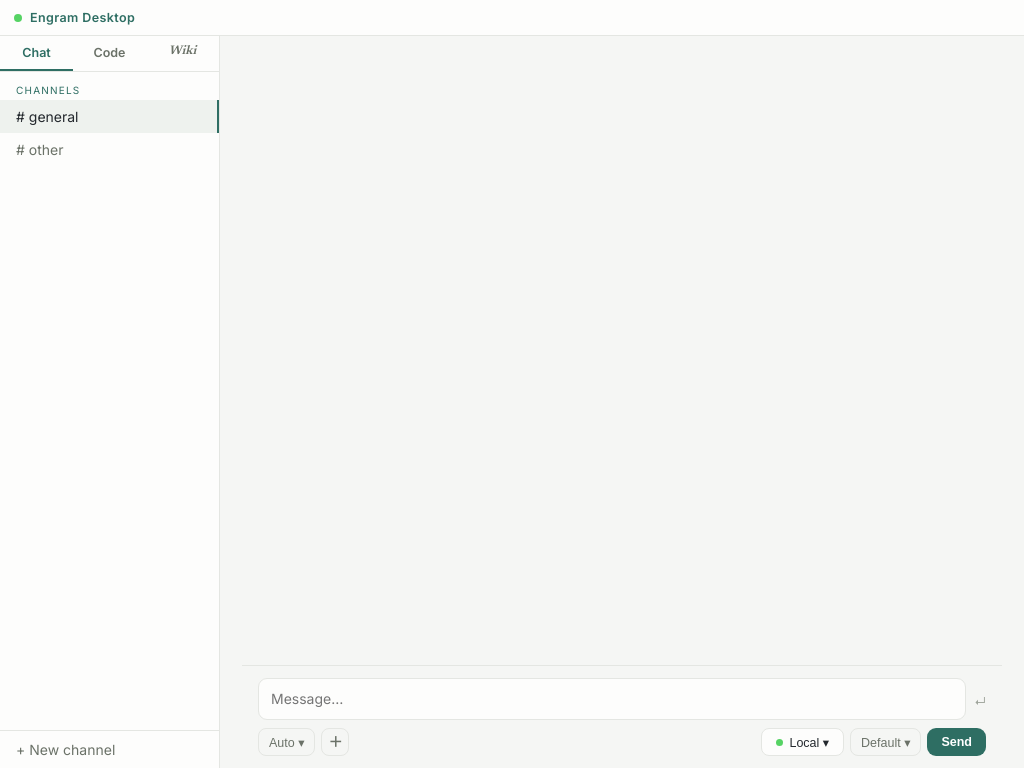
Test: 타 채널의 델타는 현재 채널 인디케이터에 영향을 주지 않는다
Expected: the text "# general" is shown, x1=16 y1=108 x2=78 y2=125
Type "hi" into the text box with placeholder "Message…" at (612, 699), box x1=258 y1=678 x2=966 y2=720
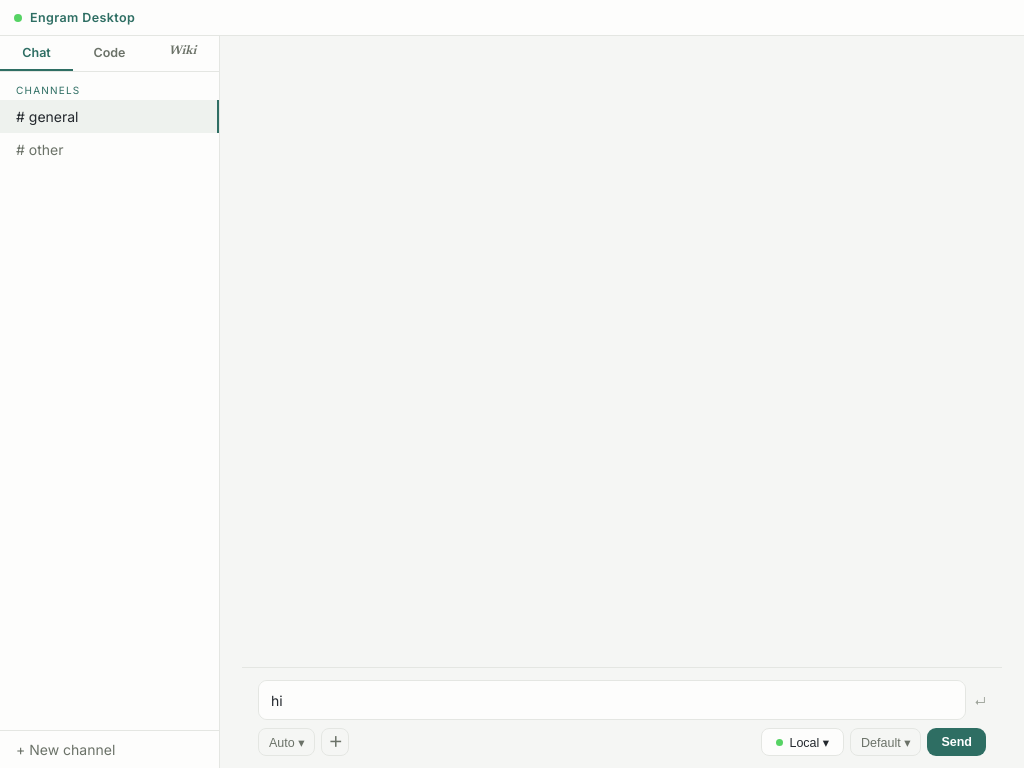
Press Enter in the text box, box x1=258 y1=680 x2=966 y2=720
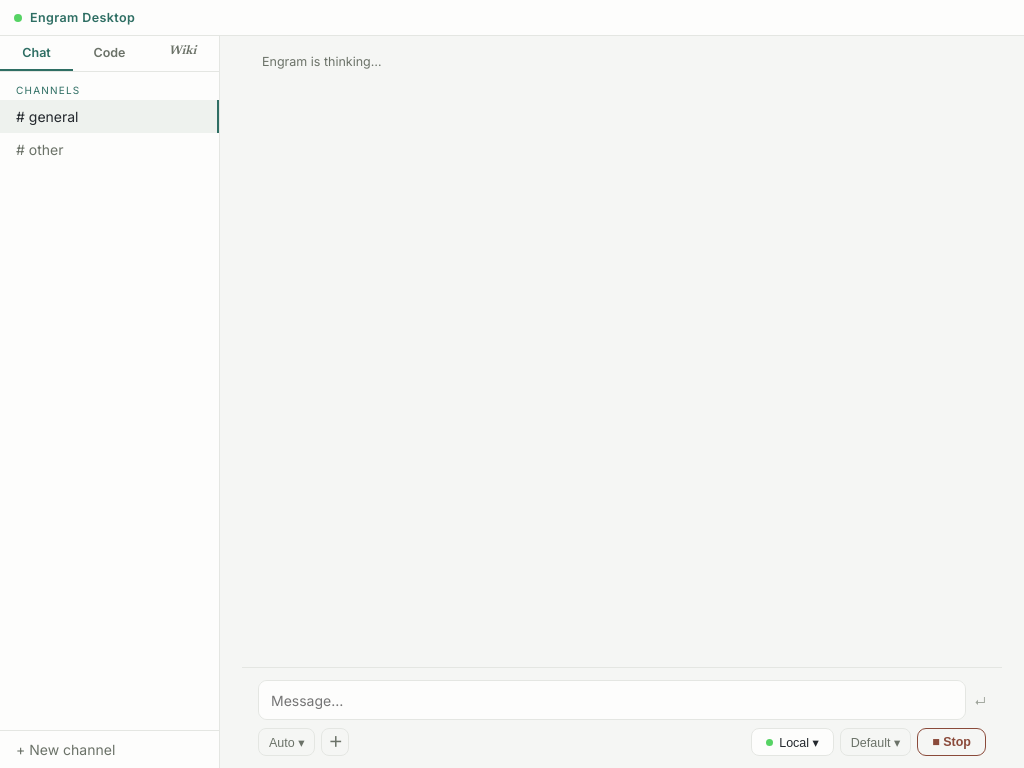
Result: the text "Engram is thinking" is shown at x1=262 y1=54 x2=371 y2=69
